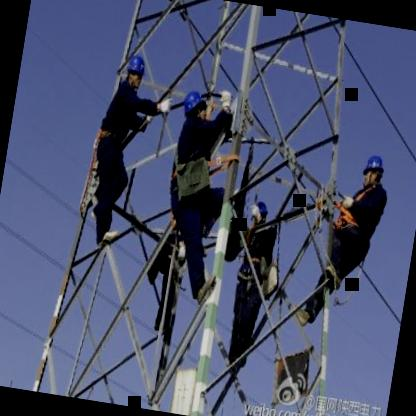helmet: (356, 148, 388, 193), (179, 87, 211, 128), (122, 52, 148, 91), (246, 199, 268, 232)
